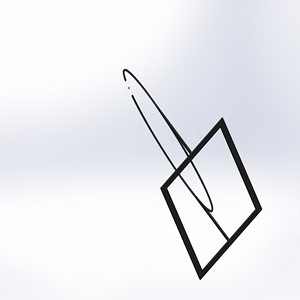circle: (120, 66, 262, 280)
